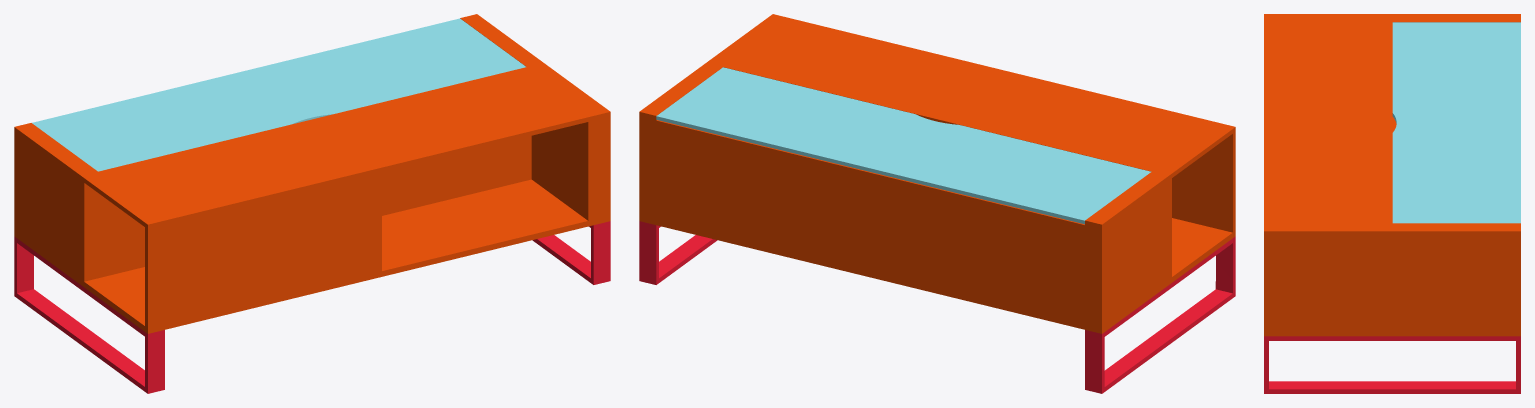
Rendered from Livingroom_Little_Table.fbx.
The picture shows the model from 3 angles, left to right: view 1: azimuth 30°, elevation 25°; view 2: azimuth 150°, elevation 25°; view 3: azimuth 270°, elevation 25°; orthographic projection. The views are drawn at different scales.
Visible parts, largest first — view 1: table, plaque_ouvrante; view 2: table, plaque_ouvrante; view 3: table, plaque_ouvrante.
Boxes of the visible parts, bbox=[...] form: table: bbox=[14, 14, 610, 393]; plaque_ouvrante: bbox=[32, 18, 525, 171]; table: bbox=[639, 14, 1235, 393]; plaque_ouvrante: bbox=[656, 67, 1151, 224]; table: bbox=[1264, 14, 1520, 393]; plaque_ouvrante: bbox=[1392, 22, 1520, 223].
Bounding box in the file's own units: 100 × 34.95 × 50.
